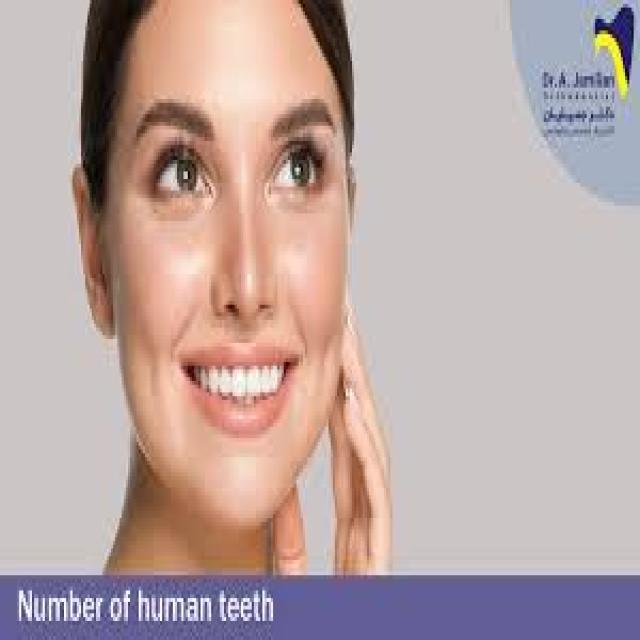tooth: (232, 370, 250, 408), (267, 370, 275, 408), (224, 370, 233, 400), (254, 370, 262, 400), (211, 370, 220, 396), (196, 369, 207, 388), (279, 370, 286, 392)
